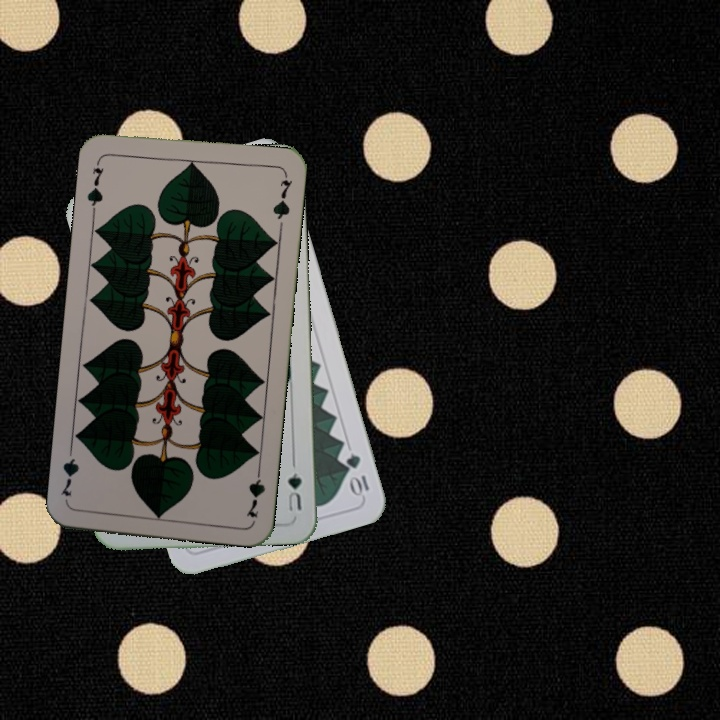G10: (342, 450, 372, 499)
G7: (242, 462, 268, 521), (83, 155, 107, 215)
GU: (283, 468, 304, 514)
